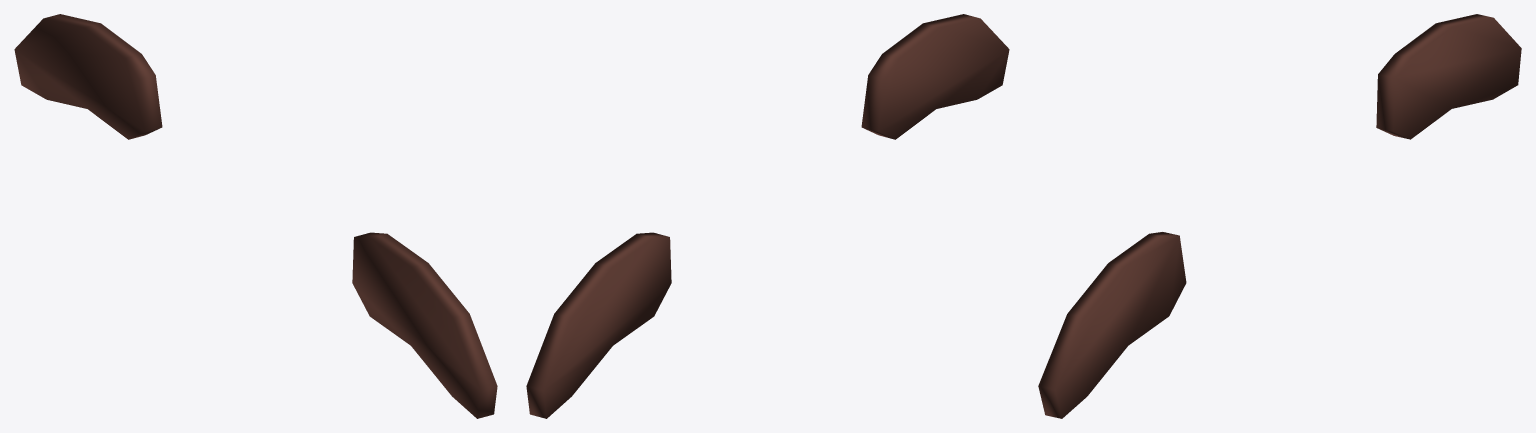
File: JohnnyBrows.glb
3 renders of one model, left to right at view 1: azimuth 30°, elevation 25°; view 2: azimuth 150°, elevation 25°; view 3: azimuth 330°, elevation 25°, orthographic.
Parts seen in each view (by area): view 1: JohnnyBrows; view 2: JohnnyBrows; view 3: JohnnyBrows.
Part boxes in pixels (x1,y1,x2,y2): JohnnyBrows: (14,14,497,418); JohnnyBrows: (526,14,1009,418); JohnnyBrows: (1038,14,1521,418).
Bounding box in the file's own units: 0.0701 × 0.3553 × 2.86.
